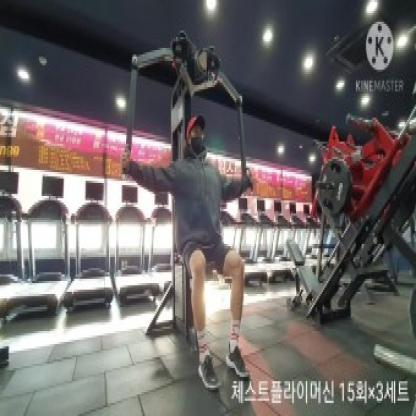chest fly machine: (116, 24, 271, 402)
